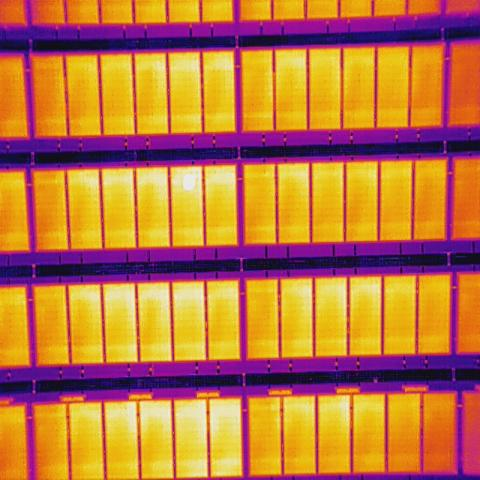fault: (182, 172, 196, 192)
